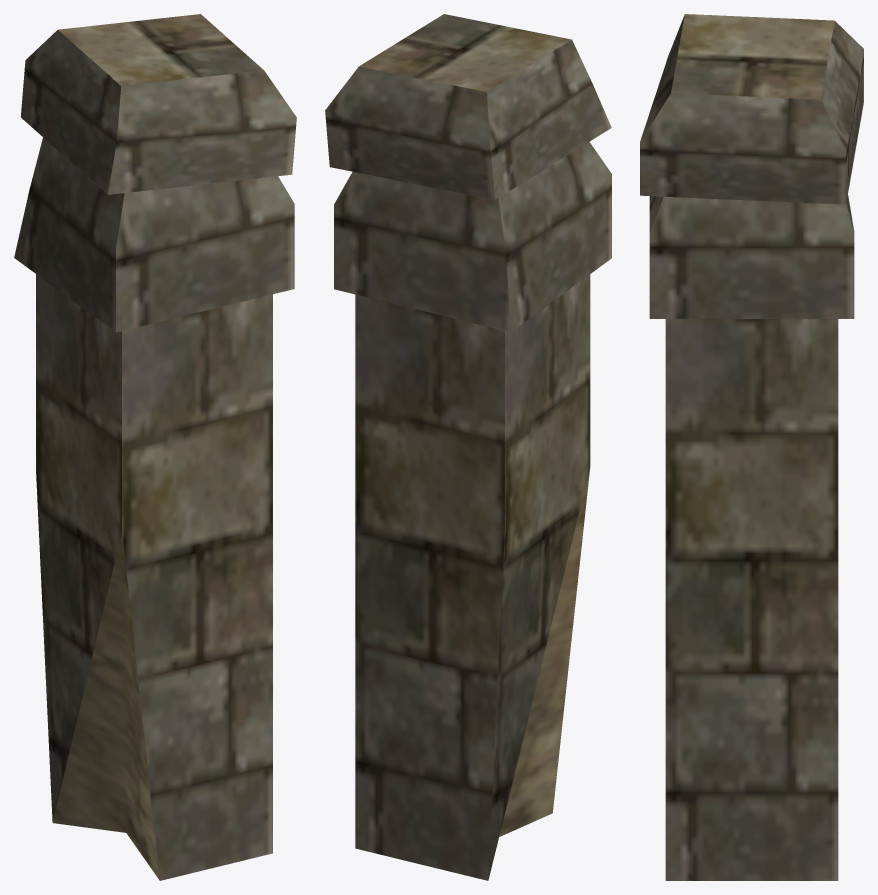
The model's file is environment_common_shamofeixu_001_d.FBX.
3 renders of one model, left to right at view 1: azimuth 30°, elevation 25°; view 2: azimuth 150°, elevation 25°; view 3: azimuth 270°, elevation 25°, orthographic.
Parts seen in each view (by area): view 1: environment_common_shamofeixu_001_d; view 2: environment_common_shamofeixu_001_d; view 3: environment_common_shamofeixu_001_d.
Boxes of the visible parts, <box> form: environment_common_shamofeixu_001_d: <box>14,14,296,880</box>; environment_common_shamofeixu_001_d: <box>325,14,611,880</box>; environment_common_shamofeixu_001_d: <box>640,14,863,880</box>.
Size of the model in its own units: 114 by 444 by 113.
